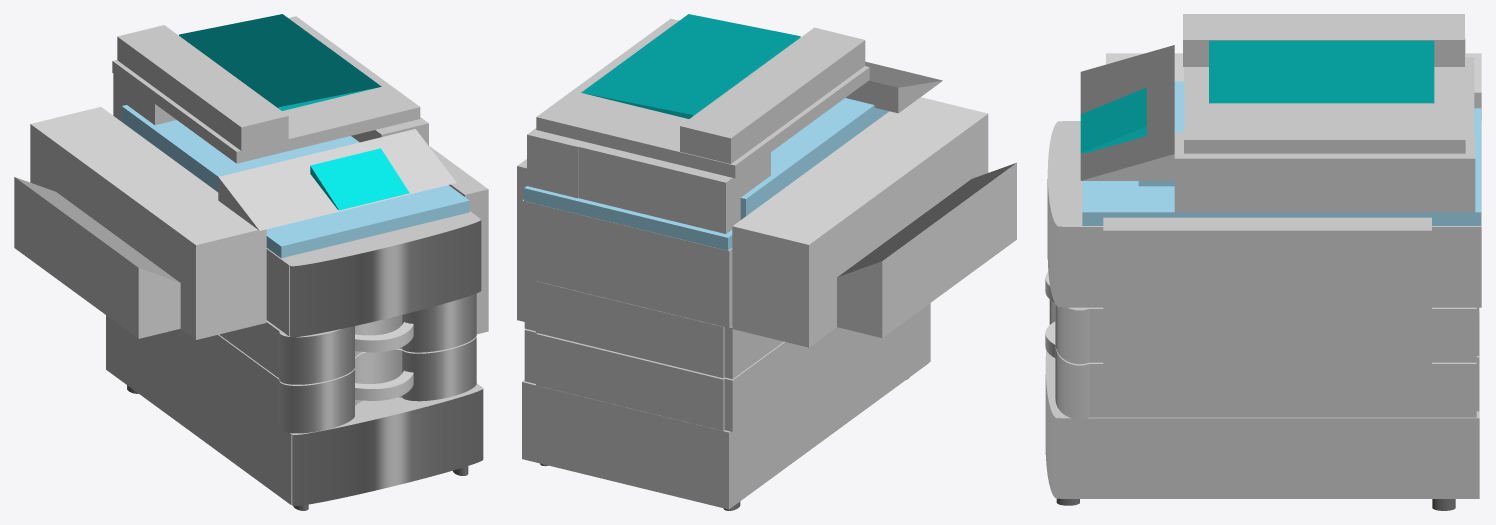
File: sh-contrib-imprimante-fax-photocopieur.glb
3 renders of one model, left to right at view 1: azimuth 30°, elevation 25°; view 2: azimuth 150°, elevation 25°; view 3: azimuth 270°, elevation 25°, orthographic. The views are drawn at different scales.
Visible parts, largest first — view 1: Cylinder_1_1_1_1_1, Wall_1_2_2_2_2_4_4_4, Mesh_1_36, Cube_1_29; view 2: Cylinder_1_1_1_1_1, Wall_1_2_2_2_2_4_4_4, Mesh_1_36, Cube_1_29; view 3: Cylinder_1_1_1_1_1, Mesh_1_36, Cube_1_29, Wall_1_2_2_2_2_4_4_4.
Part boxes in pixels (x1=…): Cylinder_1_1_1_1_1: x1=106, y1=16, x2=488, y2=506; Wall_1_2_2_2_2_4_4_4: x1=14, y1=107, x2=413, y2=405; Mesh_1_36: x1=179, y1=14, x2=409, y2=210; Cube_1_29: x1=121, y1=105, x2=469, y2=258; Cylinder_1_1_1_1_1: x1=517, y1=18, x2=942, y2=509; Wall_1_2_2_2_2_4_4_4: x1=732, y1=97, x2=1016, y2=347; Mesh_1_36: x1=581, y1=14, x2=800, y2=118; Cube_1_29: x1=524, y1=98, x2=888, y2=250; Cylinder_1_1_1_1_1: x1=1045, y1=14, x2=1481, y2=498; Mesh_1_36: x1=1080, y1=40, x2=1434, y2=153; Cube_1_29: x1=1082, y1=81, x2=1481, y2=225; Wall_1_2_2_2_2_4_4_4: x1=1045, y1=53, x2=1481, y2=357.
Bounding box in the file's own units: 1 × 1 × 1.
